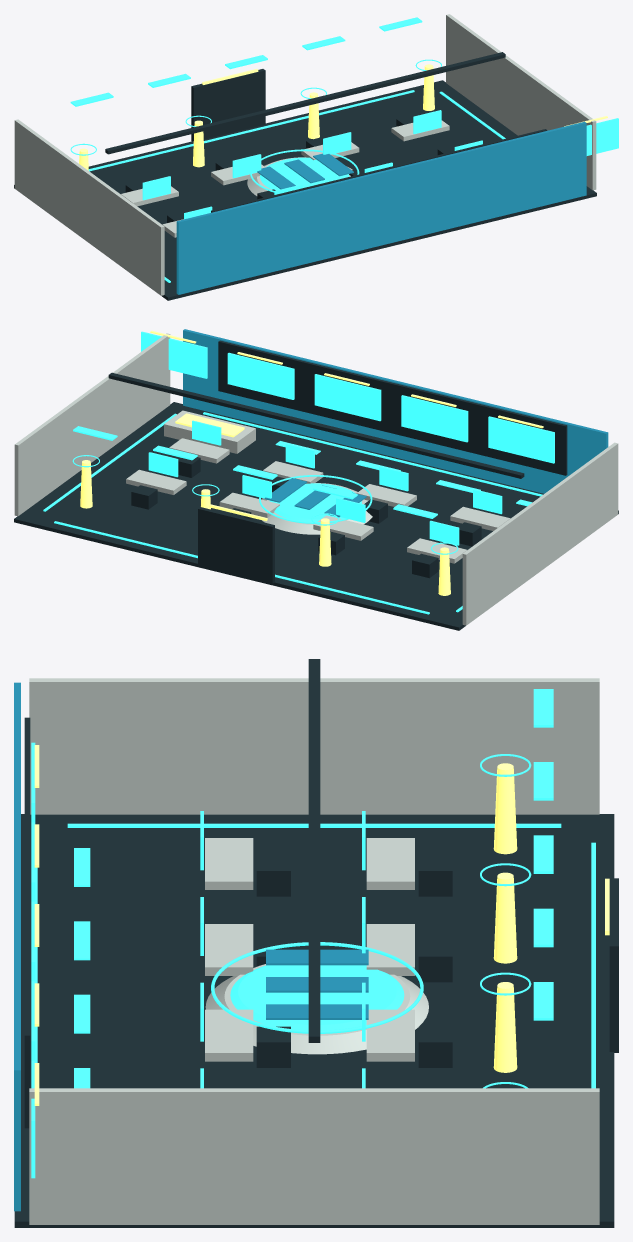
File: control-room.glb
3 views of the same model, one above another, from view 1: azimuth 30°, elevation 25°; view 2: azimuth 150°, elevation 25°; view 3: azimuth 270°, elevation 25° (orthographic). The views are drawn at different scales.
Parts seen in each view (by area): view 1: rj-control-room-interior-rear-glass-wall, rj-control-room-interior-raised-interior-floor, rj-control-room-interior-left-wall-frame, rj-control-room-interior-right-wall-frame, rj-control-room-interior-exit-door-frame, rj-control-room-interior-ceiling-spine, rj-control-room-interior-hologram-map-table, rj-control-room-interior-screen-wall-backplane, rj-control-room-interior-front-wayfinding-rail, rj-control-room-interior-main-display-5, rj-control-room-interior-monitor-1-2, rj-control-room-interior-desk-1-4 (+11 smaller); view 2: rj-control-room-interior-raised-interior-floor, rj-control-room-interior-left-wall-frame, rj-control-room-interior-right-wall-frame, rj-control-room-interior-rear-glass-wall, rj-control-room-interior-screen-wall-backplane, rj-control-room-interior-exit-door-frame, rj-control-room-interior-ceiling-spine, rj-control-room-interior-main-display-2, rj-control-room-interior-main-display-3, rj-control-room-interior-main-display-4, rj-control-room-interior-main-display-1, rj-control-room-interior-main-display-5 (+31 smaller); view 3: rj-control-room-interior-raised-interior-floor, rj-control-room-interior-right-wall-frame, rj-control-room-interior-left-wall-frame, rj-control-room-interior-hologram-map-table, rj-control-room-interior-ceiling-spine, rj-control-room-interior-rear-glass-wall, rj-control-room-interior-decision-table-base, rj-control-room-interior-screen-wall-backplane, rj-control-room-interior-desk-1-1, rj-control-room-interior-desk-2-1, rj-control-room-interior-desk-2-3, rj-control-room-interior-desk-1-3 (+22 smaller).
Boxes of the visible parts, left/top/right/bottom form: rj-control-room-interior-rear-glass-wall: left=176, top=121, right=586, bottom=294; rj-control-room-interior-raised-interior-floor: left=14, top=80, right=596, bottom=300; rj-control-room-interior-left-wall-frame: left=14, top=119, right=164, bottom=295; rj-control-room-interior-right-wall-frame: left=446, top=14, right=596, bottom=190; rj-control-room-interior-exit-door-frame: left=191, top=69, right=265, bottom=141; rj-control-room-interior-ceiling-spine: left=105, top=52, right=505, bottom=154; rj-control-room-interior-hologram-map-table: left=260, top=157, right=349, bottom=190; rj-control-room-interior-screen-wall-backplane: left=211, top=129, right=547, bottom=212; rj-control-room-interior-front-wayfinding-rail: left=88, top=90, right=414, bottom=171; rj-control-room-interior-main-display-5: left=586, top=118, right=618, bottom=155; rj-control-room-interior-monitor-1-2: left=232, top=154, right=261, bottom=178; rj-control-room-interior-desk-1-4: left=391, top=120, right=449, bottom=141; rj-control-room-interior-raised-interior-floor: left=14, top=402, right=618, bottom=630; rj-control-room-interior-left-wall-frame: left=462, top=442, right=618, bottom=625; rj-control-room-interior-right-wall-frame: left=14, top=333, right=170, bottom=515; rj-control-room-interior-rear-glass-wall: left=183, top=329, right=608, bottom=493; rj-control-room-interior-screen-wall-backplane: left=218, top=340, right=567, bottom=475; rj-control-room-interior-exit-door-frame: left=198, top=507, right=274, bottom=583; rj-control-room-interior-ceiling-spine: left=108, top=372, right=524, bottom=478; rj-control-room-interior-main-display-2: left=401, top=395, right=468, bottom=442; rj-control-room-interior-main-display-3: left=314, top=374, right=381, bottom=421; rj-control-room-interior-main-display-4: left=227, top=352, right=294, bottom=399; rj-control-room-interior-main-display-1: left=488, top=416, right=554, bottom=463; rj-control-room-interior-main-display-5: left=141, top=331, right=207, bottom=378; rj-control-room-interior-raised-interior-floor: left=14, top=814, right=614, bottom=1227; rj-control-room-interior-right-wall-frame: left=29, top=1088, right=599, bottom=1224; rj-control-room-interior-left-wall-frame: left=29, top=678, right=599, bottom=814; rj-control-room-interior-hologram-map-table: left=230, top=965, right=404, bottom=1030; rj-control-room-interior-ceiling-spine: left=308, top=659, right=320, bottom=1042; rj-control-room-interior-rear-glass-wall: left=14, top=682, right=20, bottom=1211; rj-control-room-interior-decision-table-base: left=205, top=964, right=428, bottom=1054; rj-control-room-interior-screen-wall-backplane: left=24, top=717, right=30, bottom=1128; rj-control-room-interior-desk-1-1: left=366, top=838, right=414, bottom=889; rj-control-room-interior-desk-2-1: left=205, top=838, right=253, bottom=889; rj-control-room-interior-desk-2-3: left=205, top=1009, right=253, bottom=1061; rj-control-room-interior-desk-1-3: left=366, top=1009, right=414, bottom=1061.
Size of the model in its own units: 17.53 by 3.31 by 10.29.
